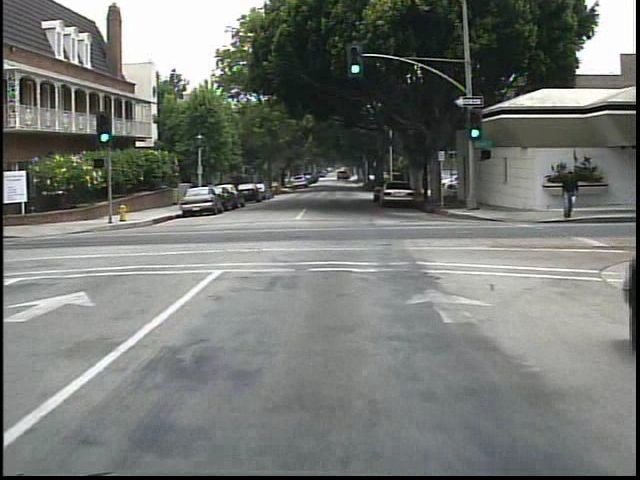person: (553, 167, 582, 220)
